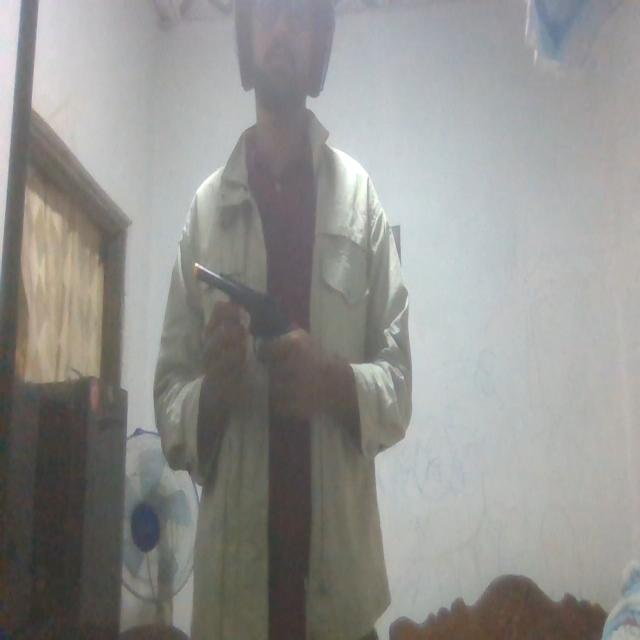Gun_Holder: (192, 252, 310, 402)
Helmet_Wearer: (224, 0, 348, 117)
Jacket_Wearer: (150, 111, 422, 640)
Person: (155, 0, 413, 640)
